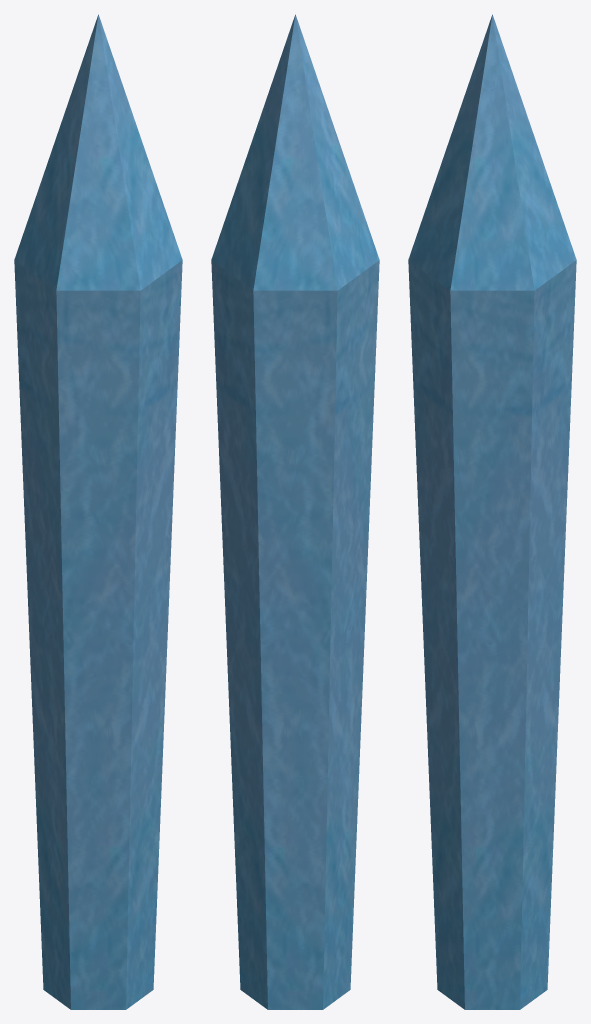
Rendered from megaCrystal.fbx.
The picture shows the model from 3 angles, left to right: view 1: azimuth 30°, elevation 25°; view 2: azimuth 150°, elevation 25°; view 3: azimuth 270°, elevation 25°; orthographic projection.
Visible parts, largest first — view 1: Circle; view 2: Circle; view 3: Circle.
Boxes of the visible parts, x1,y1,x2,y2 form: Circle: (14,14,182,1009); Circle: (211,14,379,1009); Circle: (408,14,576,1009).
Size of the model in its own units: 1.16 by 8.58 by 1.34.
